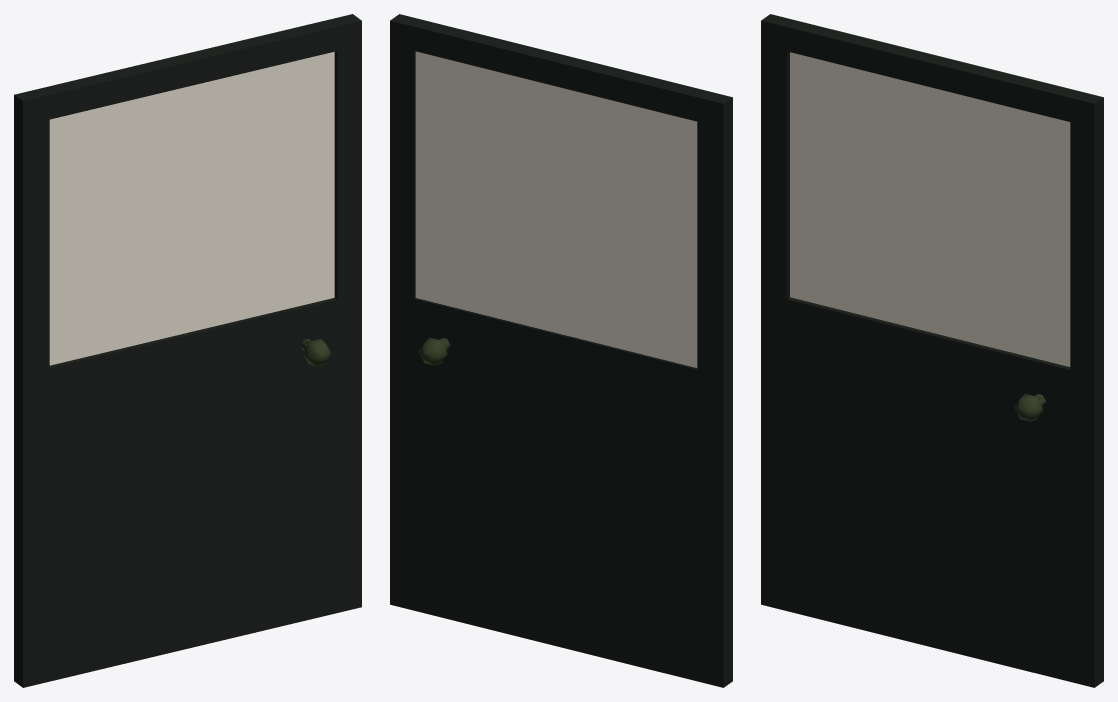
File: door.fbx
3 views of the same model, side by side, from view 1: azimuth 30°, elevation 25°; view 2: azimuth 150°, elevation 25°; view 3: azimuth 330°, elevation 25° (orthographic).
Visible parts, largest first — view 1: pPlane8; view 2: pPlane8; view 3: pPlane8.
Part boxes in pixels (left/top/right/bottom): pPlane8: left=14, top=14, right=361, bottom=687; pPlane8: left=390, top=14, right=732, bottom=687; pPlane8: left=761, top=14, right=1103, bottom=687.
Bounding box in the file's own units: 118 × 196 × 27.5.
